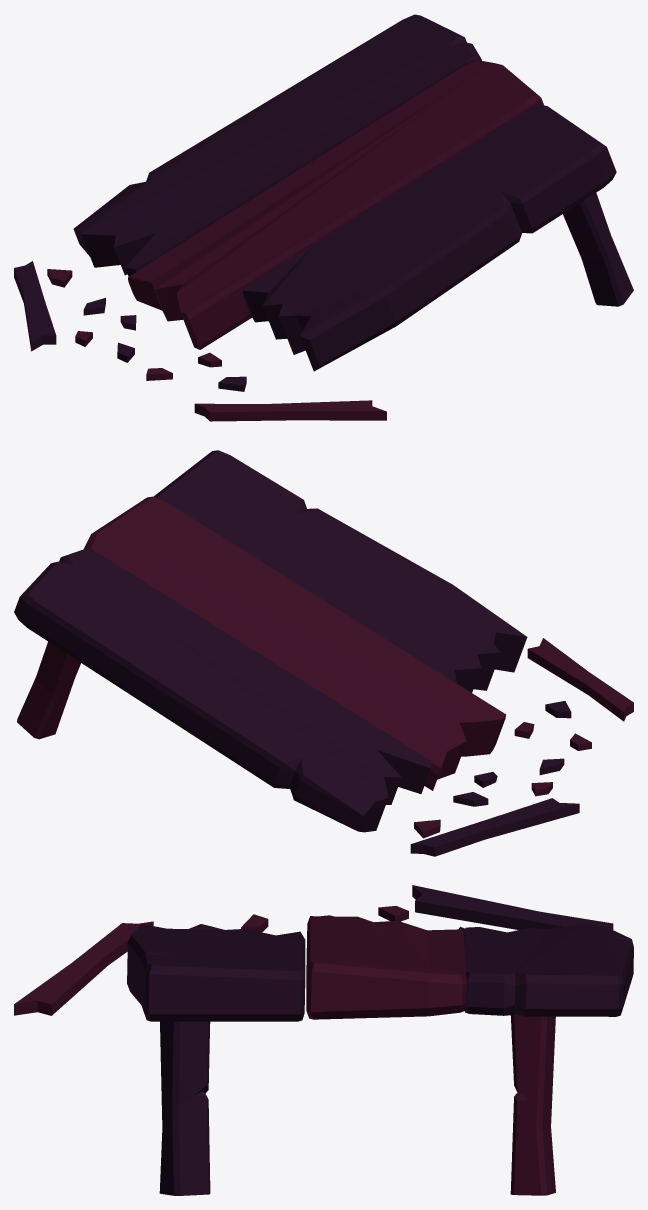
Rendered from prop_table_broken.FBX.
3 views of the same model, one above another, from view 1: azimuth 30°, elevation 25°; view 2: azimuth 150°, elevation 25°; view 3: azimuth 270°, elevation 25° (orthographic). The views are drawn at different scales.
Parts seen in each view (by area): view 1: Object008; view 2: Object008; view 3: Object008.
Part boxes in pixels (x1,y1,x2,y2): Object008: [14, 14, 633, 421]; Object008: [14, 450, 633, 856]; Object008: [14, 885, 633, 1195].
Bounding box in the file's own units: 4.12 × 1.37 × 3.49.
